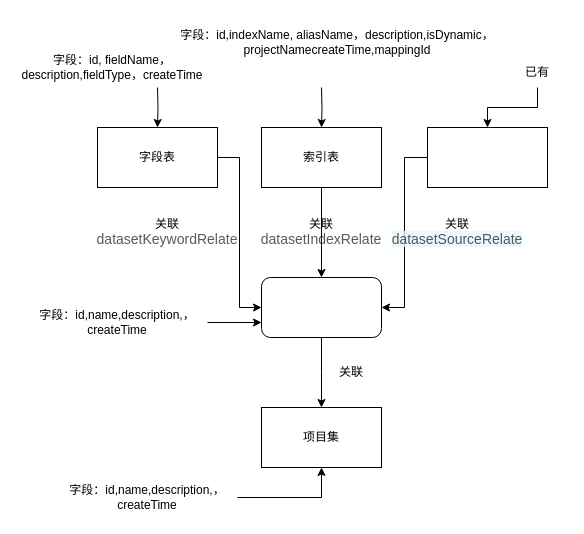
Some shapes in this 584 by 534 pixel diagram are drawn without their labels. The box of each missing label's shape, as (x1, y1, x2, y2) in pixels:
数据源: (426, 126, 548, 188)
数据集: (260, 276, 382, 338)
